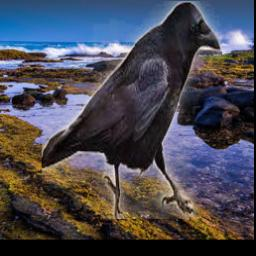Crow: (41, 1, 220, 219)
